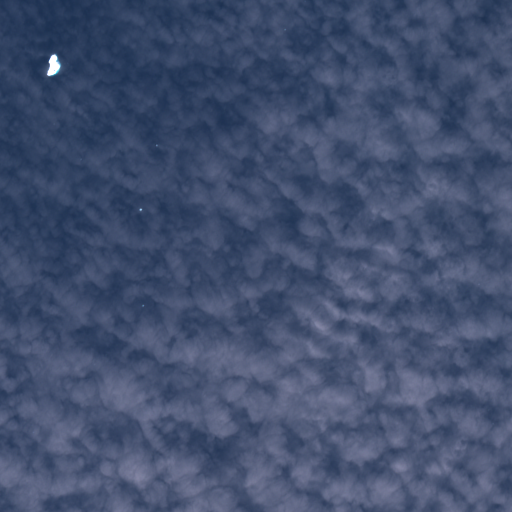Iceberg: (47, 54, 60, 75), (139, 208, 141, 210), (156, 144, 157, 146), (142, 305, 143, 306)
